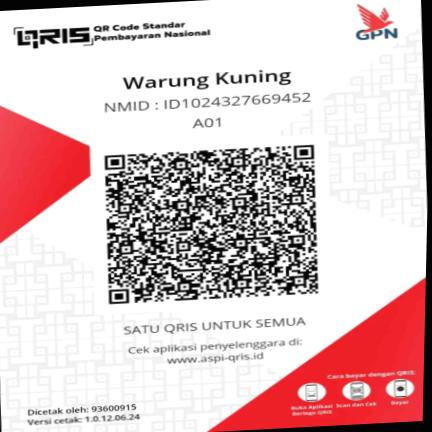Cara Pakai QRIS: (277, 368, 424, 426)
Cek Aplikasi Penyelenggara: (118, 333, 314, 372)
Dicetak Oleh: (25, 402, 139, 416)
Logo GPN: (343, 0, 410, 47)
Logo dan deskripsi QRIS: (7, 11, 228, 54)
Nama Merchant: (114, 64, 304, 96)
National Merchant ID: (99, 88, 316, 116)
QR Code: (89, 130, 332, 311)
Slogan: (116, 312, 314, 339)
Terminal ID: (187, 115, 234, 133)
Versi Cetak: (25, 412, 141, 426)
